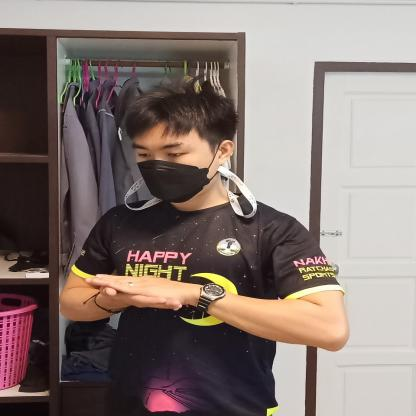Love: (47, 238, 257, 330)
